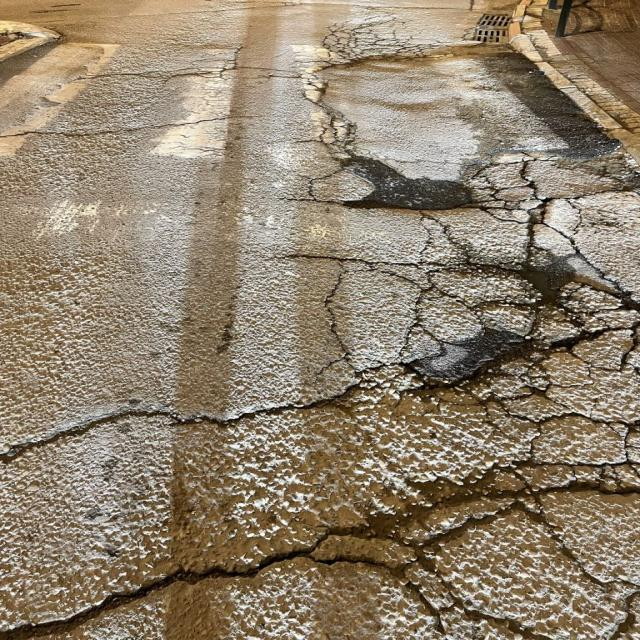major_pothole: (328, 152, 478, 207)
medium_pothole: (395, 323, 533, 393), (476, 254, 577, 308)
minor_pothole: (345, 467, 501, 538)
